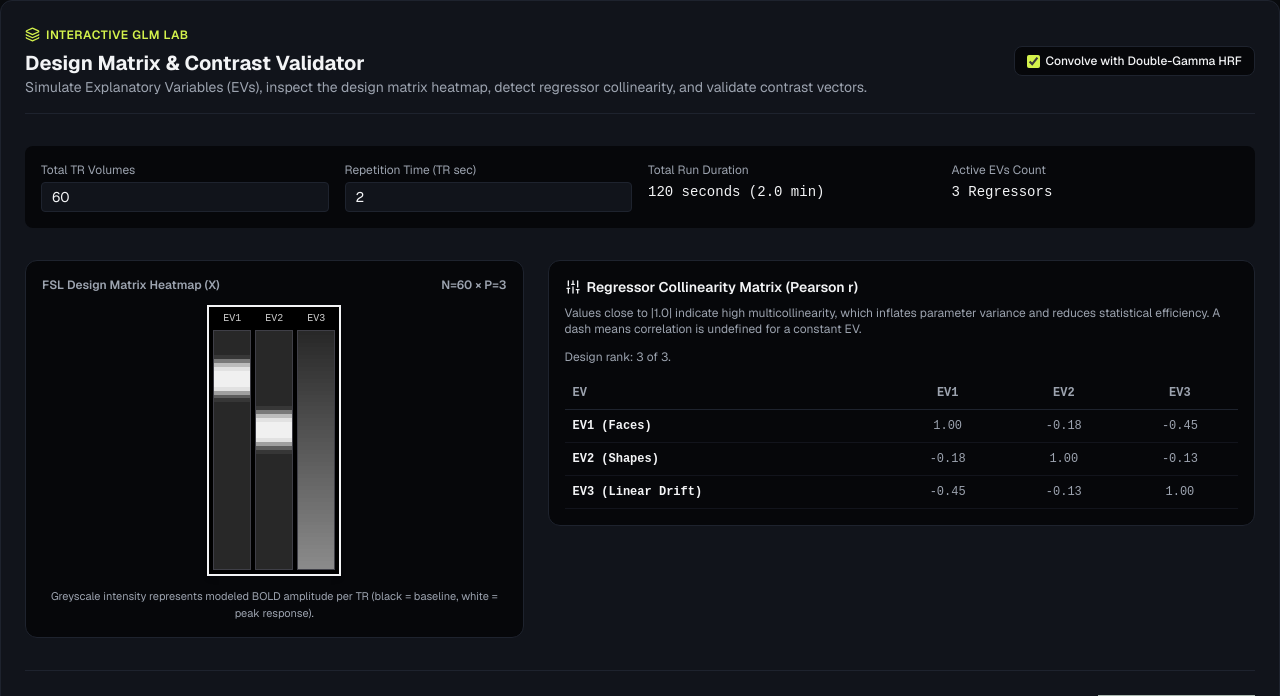
Test: review regression fixes › clamps large acquisition inputs before allocating the matrix
The width and height of the screenshot is (1280, 696).
Replace the text in the number field named "Total TR Volumes" with "1000000". click: (185, 197)
box: left=41, top=182, right=328, bottom=212
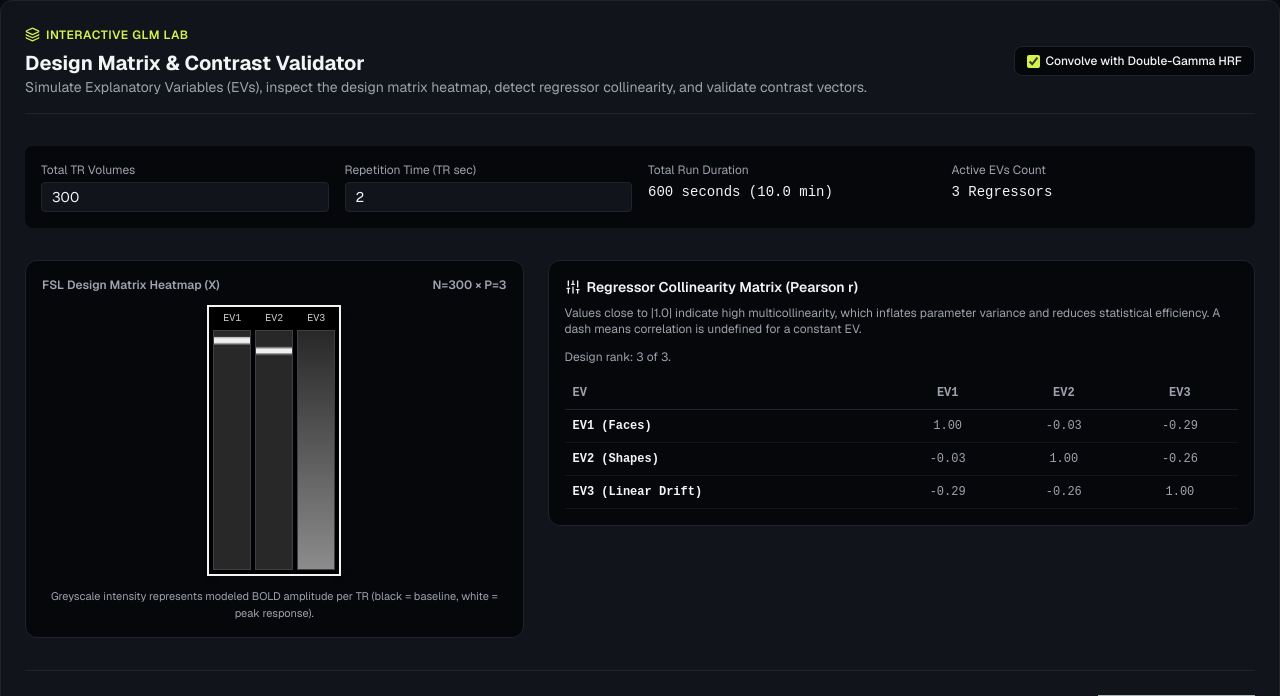
Result: the number field named "Total TR Volumes" holds "300" at left=41, top=182, right=328, bottom=212
Replace the text in the number field named "Repetition Time (TR sec)" with "100". click: (488, 197)
box: left=344, top=182, right=632, bottom=212
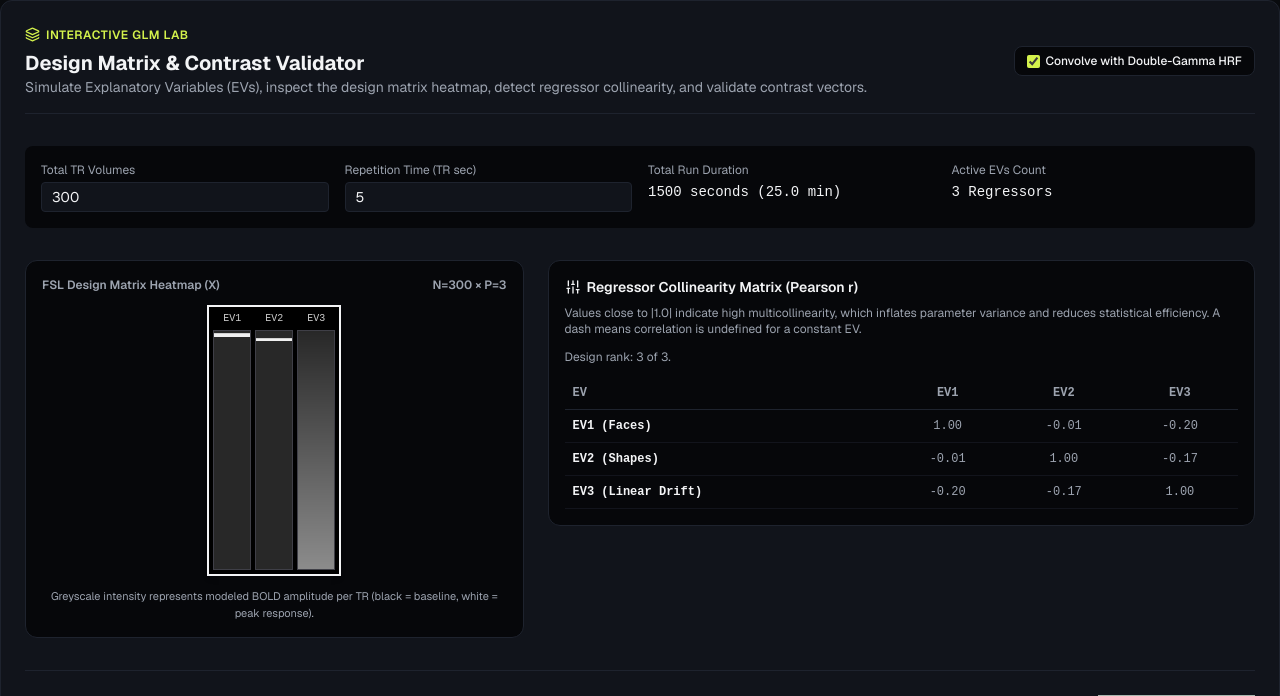
Result: the number field named "Repetition Time (TR sec)" holds "5" at left=344, top=182, right=632, bottom=212
